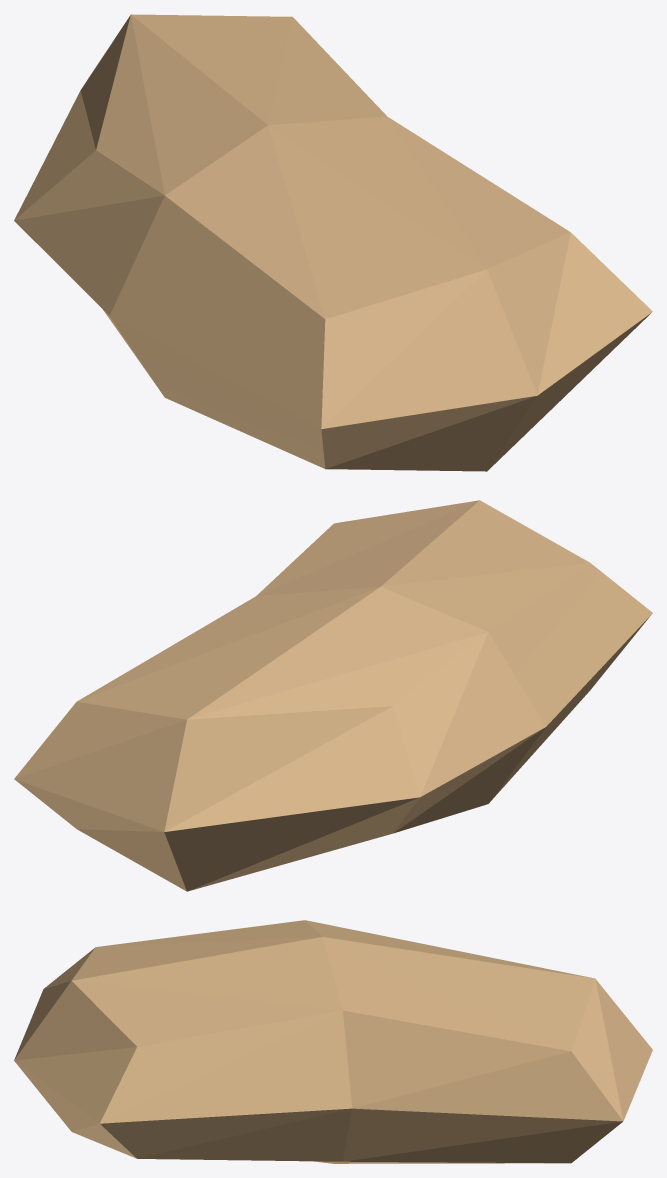
The model's file is 05 Big_stone.FBX.
3 renders of one model, top to bottom at view 1: azimuth 30°, elevation 25°; view 2: azimuth 150°, elevation 25°; view 3: azimuth 270°, elevation 25°, orthographic. The views are drawn at different scales.
Visible parts, largest first — view 1: Stone_lit_029; view 2: Stone_lit_029; view 3: Stone_lit_029.
Boxes of the visible parts, x1=… form: Stone_lit_029: x1=14, y1=14, x2=652, y2=471; Stone_lit_029: x1=14, y1=500, x2=652, y2=891; Stone_lit_029: x1=14, y1=920, x2=652, y2=1163.
Bounding box in the file's own units: 1156 × 722 × 2075.
